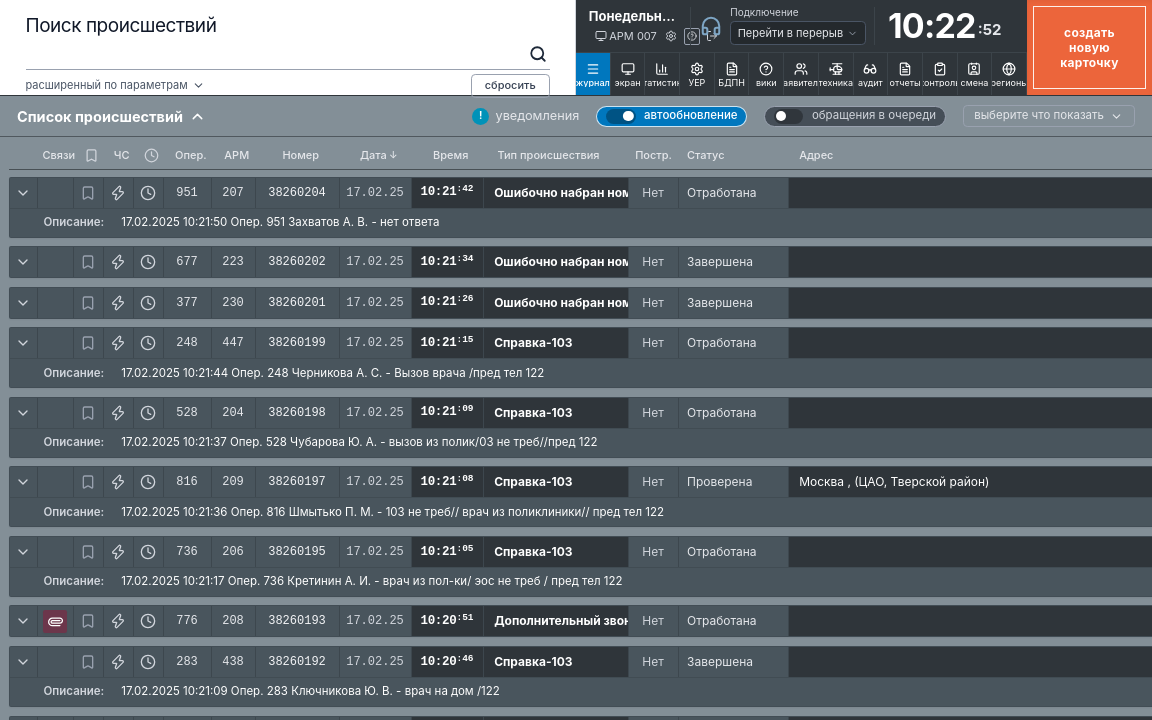
it: ТЗ 52: Frontend — Главный экран (Журнал/Грид Карточек ПОВ-112 по последнему скриншоту) › 4. Отображает подшапку со списком происшествий, уведомлениями, свитчами автообновления и очереди, кнопкой 'выберите что показать'
Check: the text "Список происшествий" is shown, box 17,104 -> 183,128
Check: the text "уведомления" is shown, box 496,108 -> 579,125
Click the text "автообновление".
click(672, 116)  # box 596,106 -> 747,127
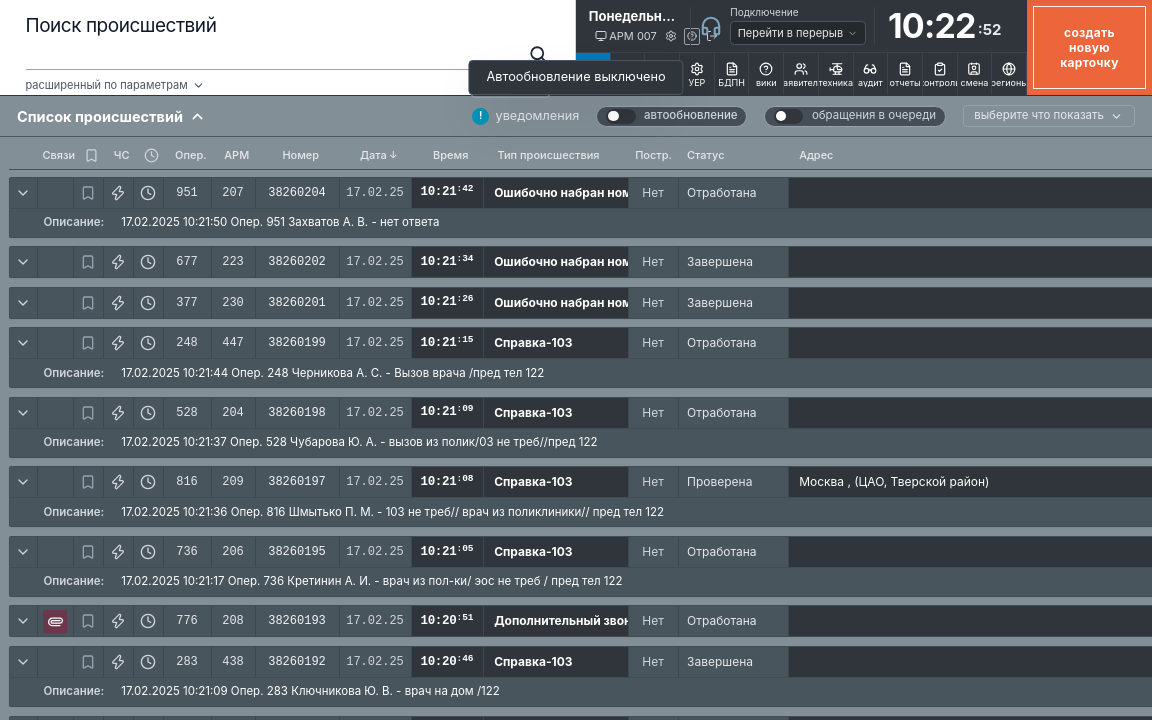
Check: the text "Автообновление выключено" is shown, box 468,60 -> 684,96
